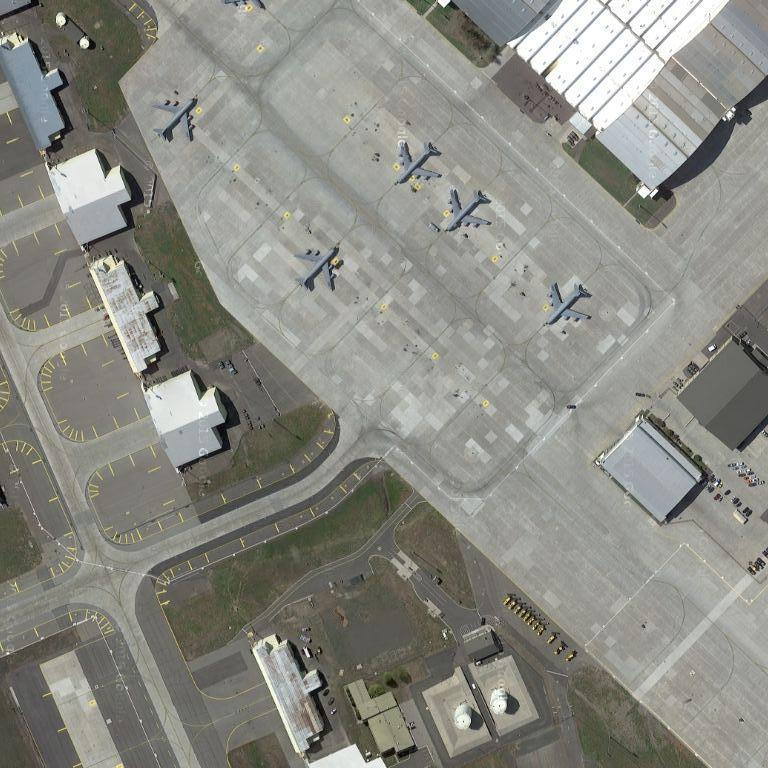KC-135: (146, 95, 200, 147), (290, 243, 343, 295), (391, 139, 443, 191), (438, 185, 490, 236), (545, 279, 594, 329)
